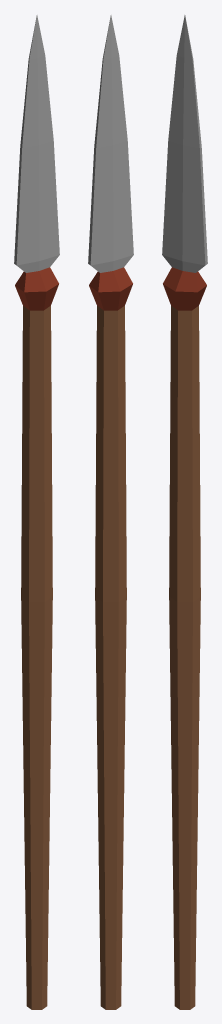
File: Spear_regular.fbx
The picture shows the model from 3 angles, left to right: view 1: azimuth 30°, elevation 25°; view 2: azimuth 210°, elevation 25°; view 3: azimuth 330°, elevation 25°; orthographic projection.
Visible parts, largest first — view 1: Spear_regular; view 2: Spear_regular; view 3: Spear_regular.
Boxes of the visible parts, <box> form: Spear_regular: <box>14,15,59,1009</box>; Spear_regular: <box>88,15,133,1009</box>; Spear_regular: <box>162,15,207,1009</box>.
Size of the model in its own units: 8.71 by 191 by 6.67.
